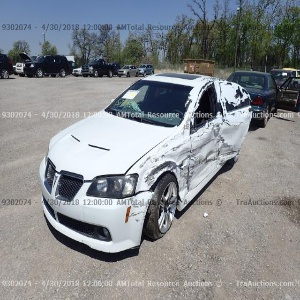bumper: (110, 189, 153, 252)
door: (184, 126, 250, 178)
